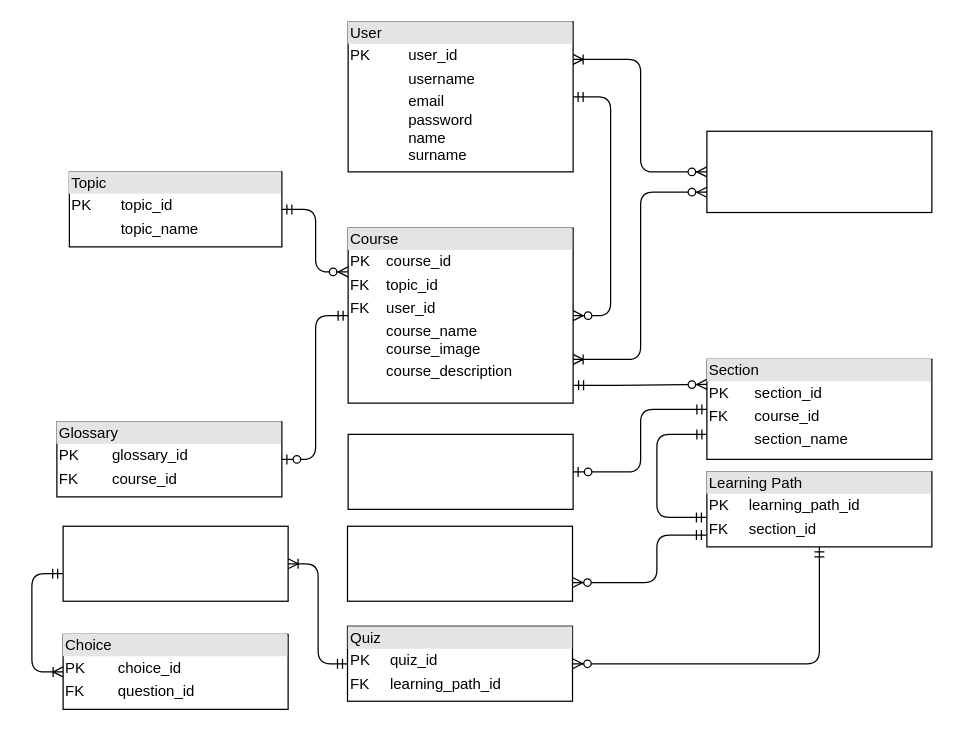
Some shapes in this 954 by 731 pixel diagram are drawn without their labels. The shapes that lost their labels are listed below. From the top down, each one's box as (x1, y1, x2, y2) in pixels, then its label:
(706, 130, 932, 212): EnrolledCourses PK, FK user_id PK, FK course_id
(347, 433, 573, 509): Resources PK resources_id FK section_id
(62, 525, 288, 601): Question PK question_id FK quiz_id
(346, 525, 572, 601): Lecture PK lecture_id FK learning_path_id
